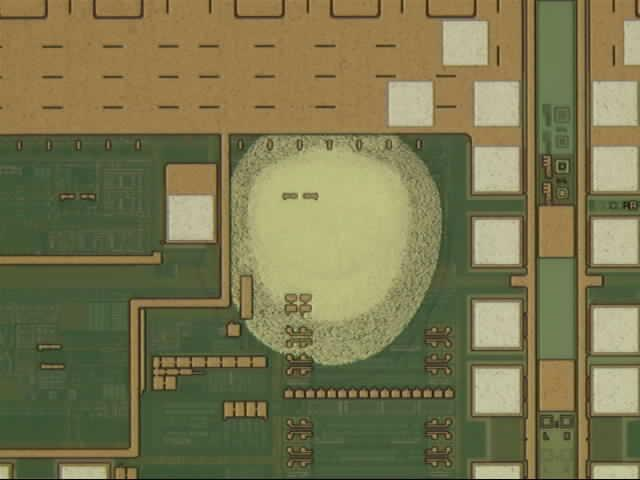BLOCK ETCH: (213, 109, 451, 373)
